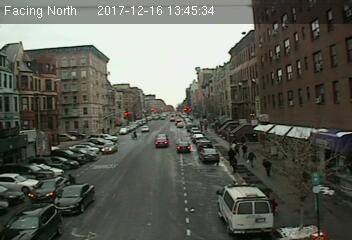car: (52, 183, 96, 215), (29, 176, 69, 202), (201, 148, 219, 162), (101, 142, 118, 154), (177, 141, 191, 153), (155, 137, 168, 148)
pedestrian: (262, 155, 274, 179), (246, 151, 258, 170), (240, 142, 249, 160)
police: (216, 184, 275, 234)
